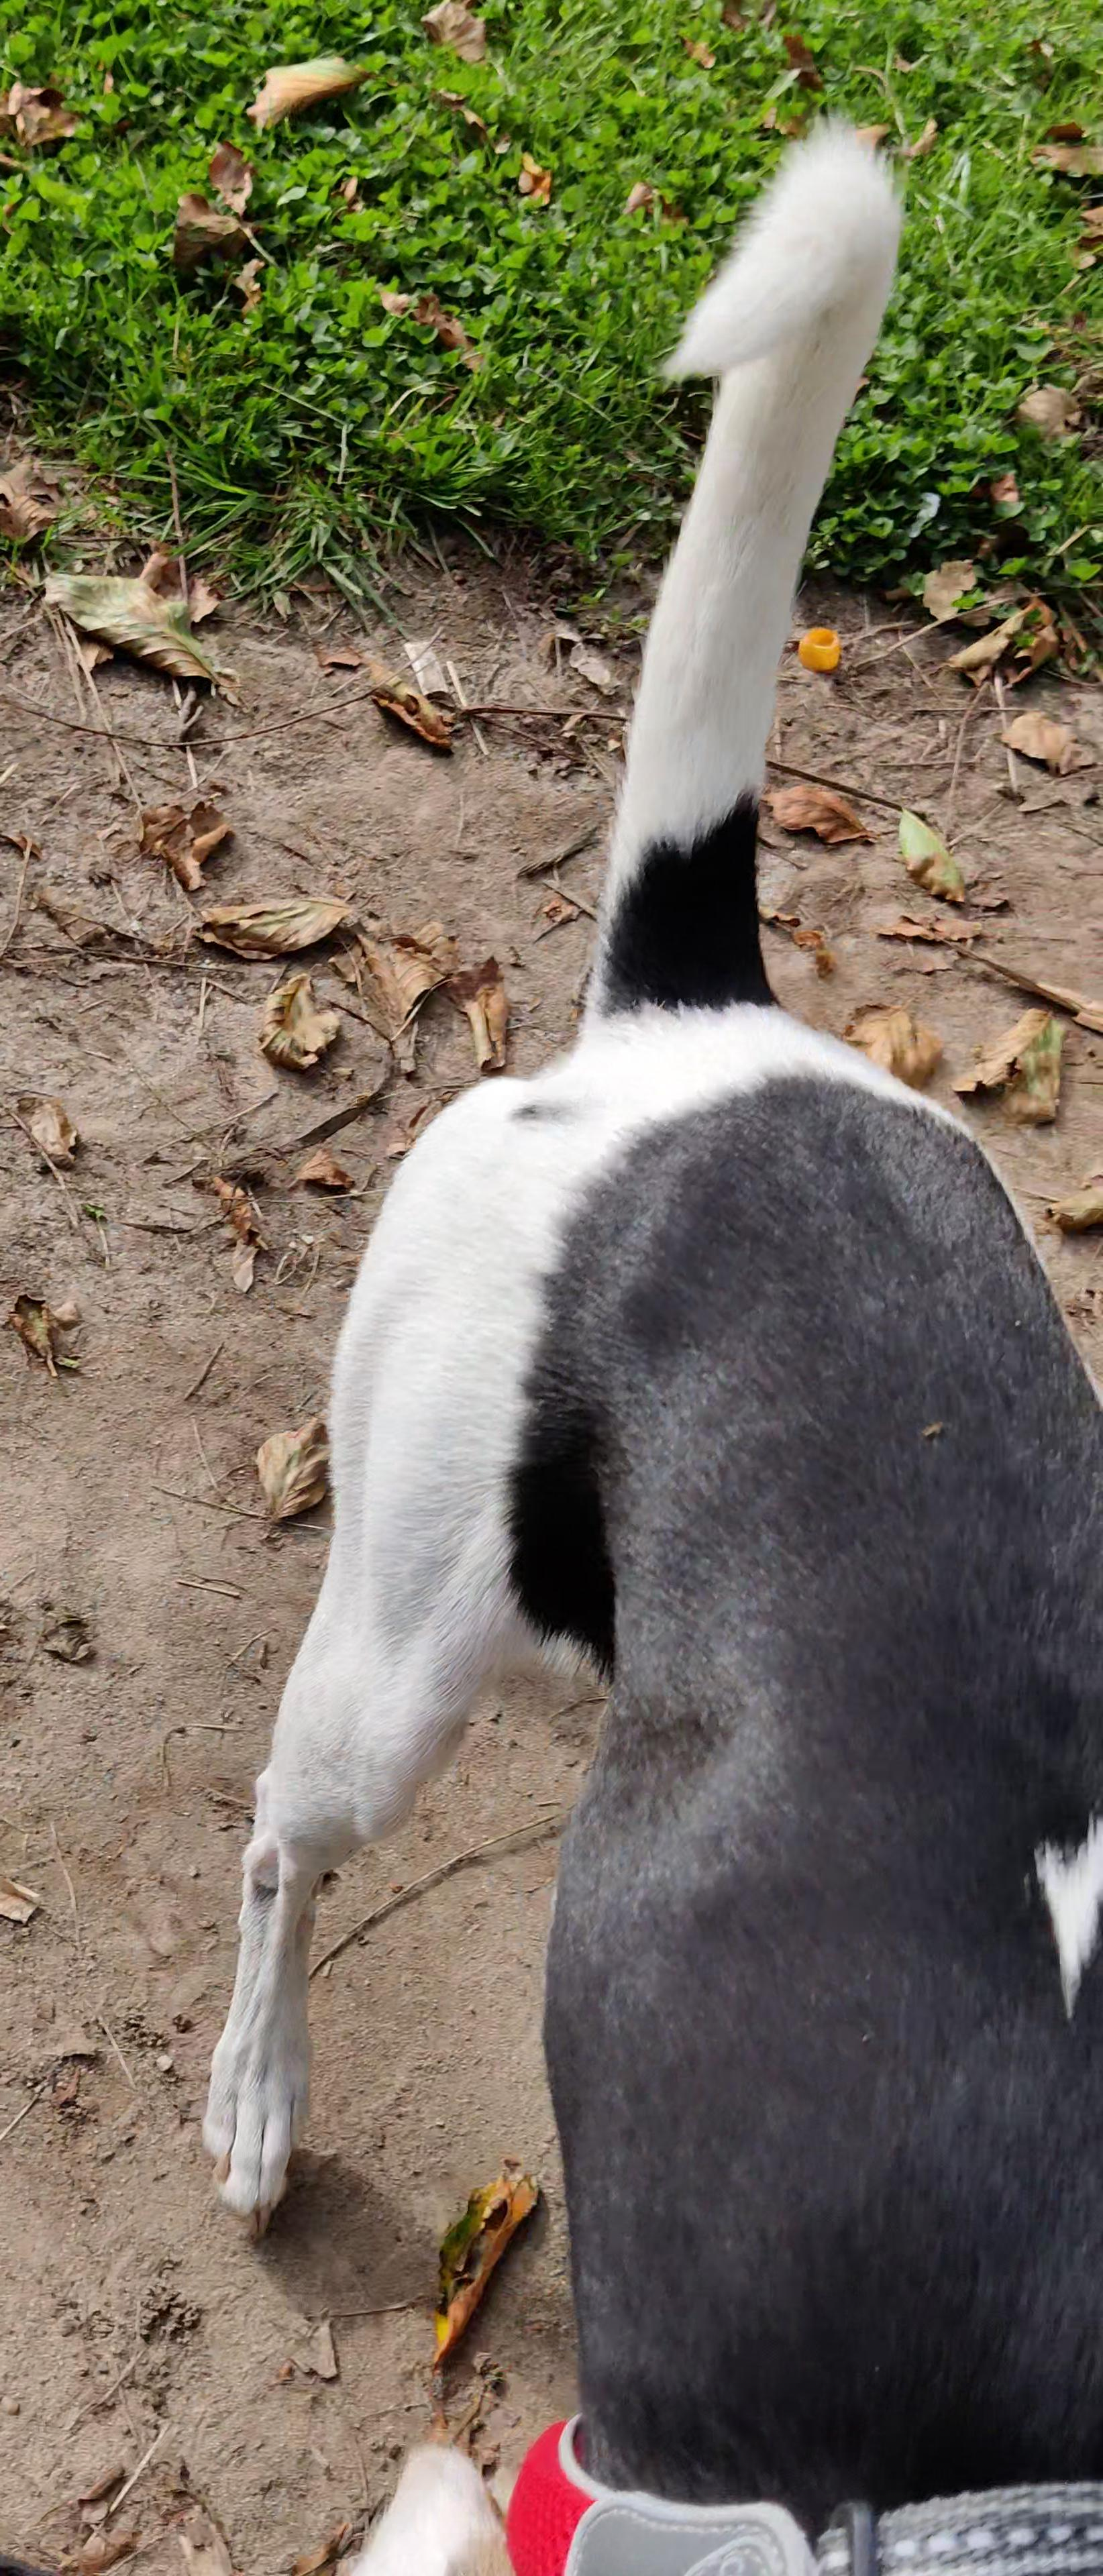Dog: (173, 107, 1103, 2576)
